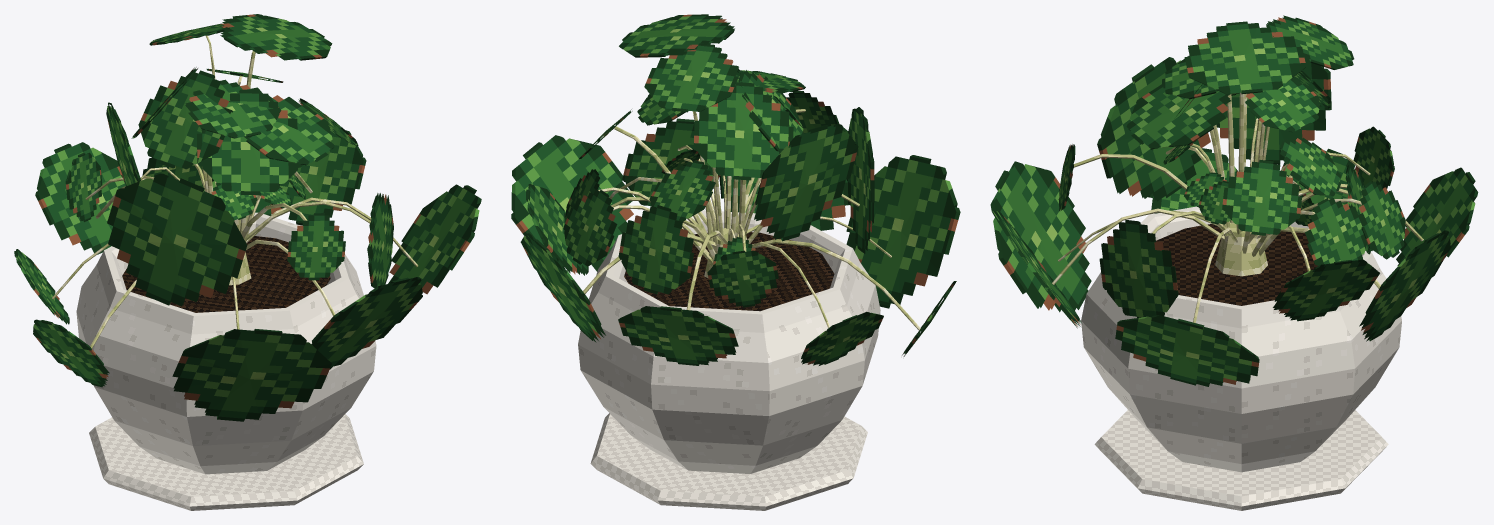
Rendered from Pilea.gltf.
3 renders of one model, left to right at view 1: azimuth 30°, elevation 25°; view 2: azimuth 150°, elevation 25°; view 3: azimuth 270°, elevation 25°, orthographic. The views are drawn at different scales.
Parts seen in each view (by area): view 1: Pot, Leaf_010, Saucer, Leaf_026, Leaf_014, Leaf_004, Soil, Leaf_025, Leaf_009, Leaf_006, Leaf_016, Leaf_000 (+12 smaller); view 2: Pot, Saucer, Leaf_026, Leaf_022, Leaf_003, Leaf_014, Soil, Leaf_025, Leaf_030, Leaf_002, Leaf_000, Leaf_017 (+14 smaller); view 3: Pot, Saucer, Leaf_026, Leaf_014, Soil, Leaf_000, Leaf_010, Leaf_008, Leaf_021, Leaf_007, Leaf_016, Leaf_025 (+19 smaller).
Part boxes in pixels (x1,y1,x2,y2): Pot: (76, 212, 376, 474); Leaf_010: (107, 173, 247, 306); Saucer: (89, 414, 363, 510); Leaf_026: (172, 329, 331, 421); Leaf_014: (388, 184, 481, 294); Leaf_004: (138, 70, 232, 169); Soil: (122, 236, 330, 312); Leaf_025: (35, 142, 125, 254); Leaf_009: (311, 277, 422, 369); Leaf_006: (197, 89, 302, 195); Leaf_016: (279, 130, 366, 225); Leaf_000: (220, 14, 332, 60); Pot: (578, 210, 880, 473); Saucer: (590, 413, 867, 510); Leaf_026: (846, 155, 960, 308); Leaf_022: (754, 124, 858, 241); Leaf_003: (693, 82, 793, 180); Leaf_014: (511, 135, 633, 271); Soil: (624, 232, 834, 311); Leaf_025: (618, 306, 738, 365); Leaf_030: (618, 205, 693, 294); Leaf_002: (644, 43, 738, 112); Leaf_000: (619, 14, 734, 57); Leaf_017: (707, 250, 778, 307); Pot: (1081, 206, 1401, 472); Saucer: (1094, 410, 1388, 510); Leaf_026: (990, 161, 1091, 312); Leaf_014: (1115, 315, 1259, 386); Soil: (1156, 224, 1317, 305); Leaf_000: (1184, 21, 1306, 94); Leaf_010: (1097, 57, 1210, 201); Leaf_008: (1099, 219, 1178, 317); Leaf_021: (1222, 160, 1301, 235); Leaf_007: (1126, 84, 1230, 149); Leaf_016: (1273, 259, 1379, 321); Leaf_025: (1396, 167, 1478, 266).
Bounding box in the file's own units: 3.81 × 3.55 × 3.67.
5 materials, 5 textured.
